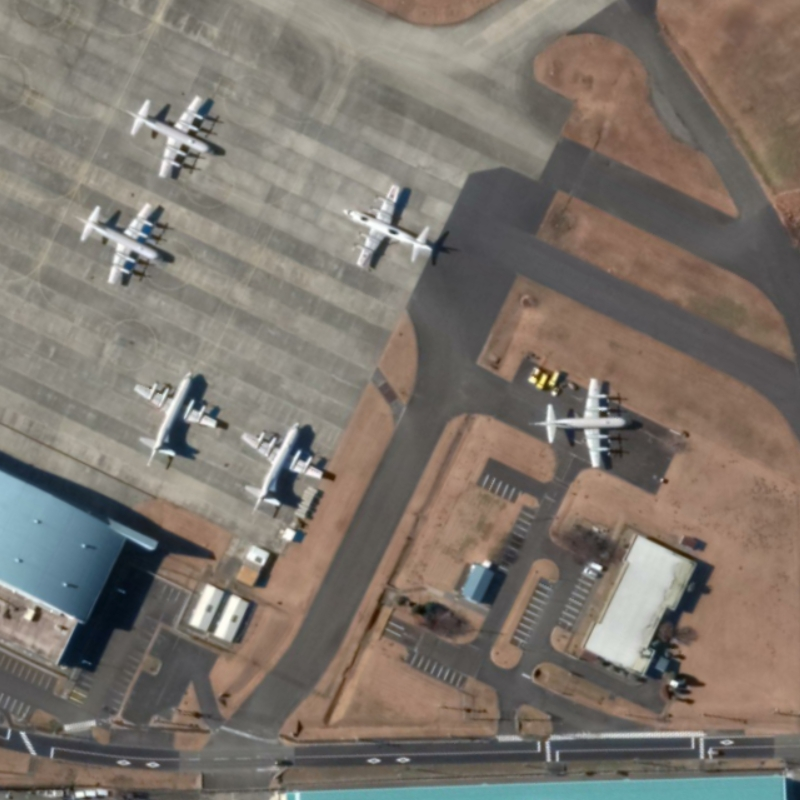A9: (126, 361, 230, 484), (330, 178, 443, 277), (526, 373, 634, 476), (113, 90, 226, 185), (237, 414, 331, 520), (71, 199, 182, 286)
